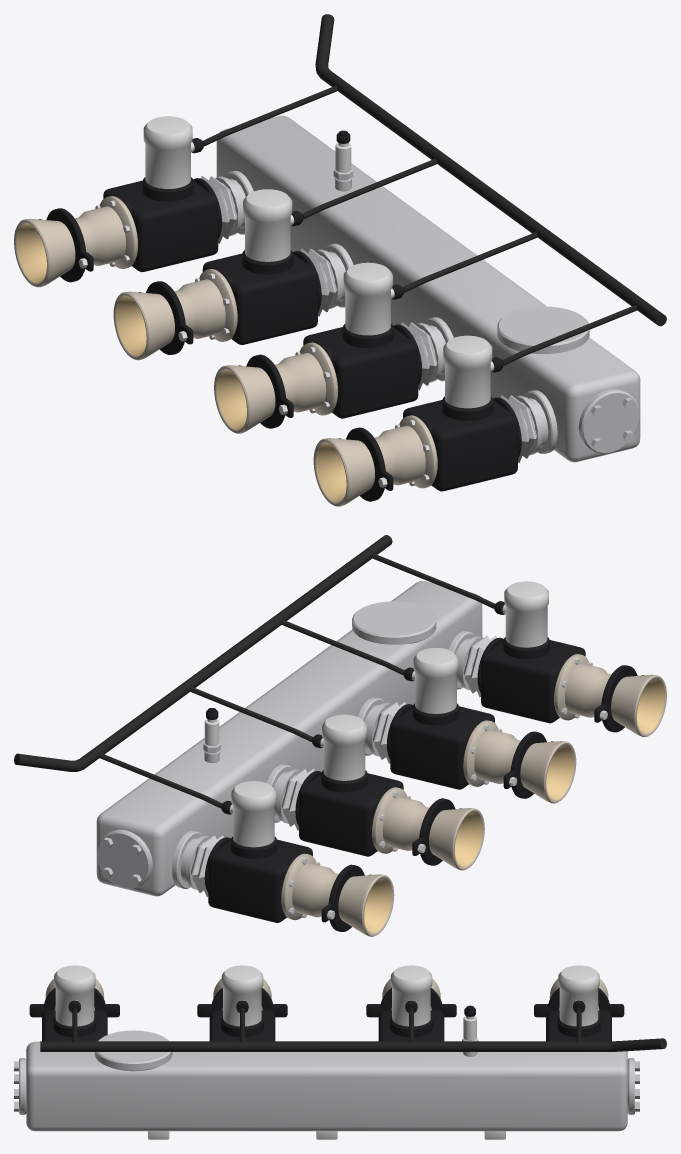
Rendered from SM_Thrusters_Rear.fbx.
The picture shows the model from 3 angles, top to bottom: view 1: azimuth 30°, elevation 25°; view 2: azimuth 150°, elevation 25°; view 3: azimuth 270°, elevation 25°; orthographic projection. The views are drawn at different scales.
Visible parts, largest first — view 1: Export_Thrusters_Rear; view 2: Export_Thrusters_Rear; view 3: Export_Thrusters_Rear.
Part boxes in pixels (left/top/right/bottom): Export_Thrusters_Rear: left=14, top=14, right=666, bottom=506; Export_Thrusters_Rear: left=14, top=535, right=666, bottom=936; Export_Thrusters_Rear: left=14, top=965, right=666, bottom=1139.
Size of the model in its own units: 0.9118 by 0.4774 by 0.2046.
